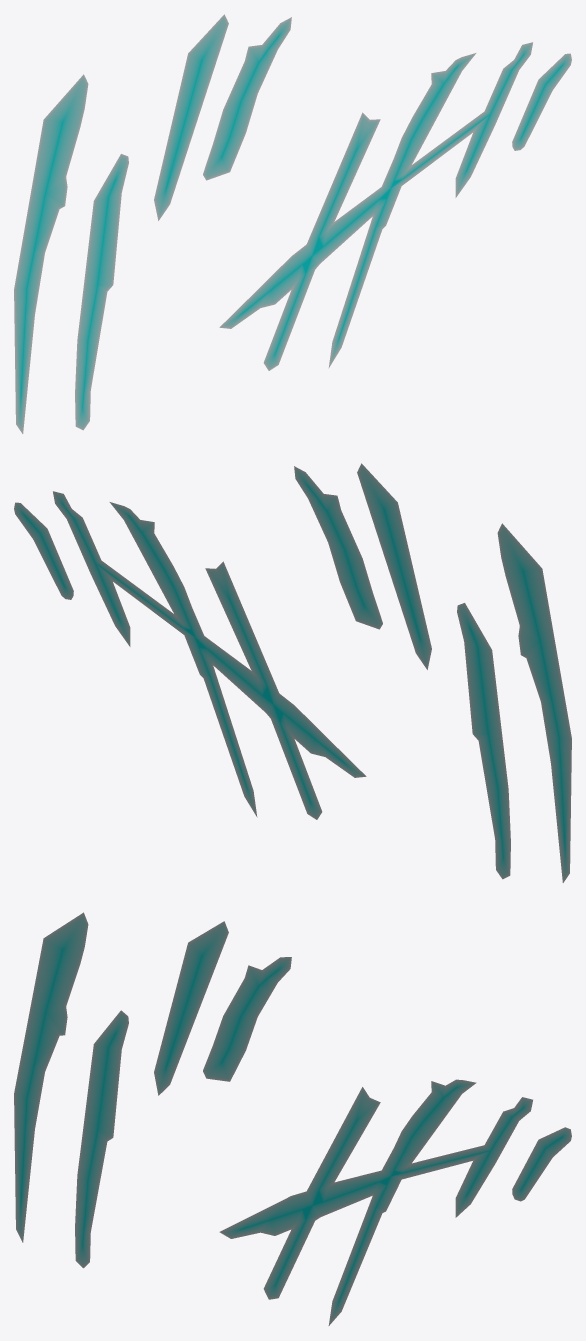
The model's file is SM_EFF_Text_TandemPaperBomb_01.glb.
3 views of the same model, one above another, from view 1: azimuth 30°, elevation 25°; view 2: azimuth 150°, elevation 25°; view 3: azimuth 330°, elevation 25° (orthographic).
Visible parts, largest first — view 1: SM_EFF_Text_TandemPaperBomb_01; view 2: SM_EFF_Text_TandemPaperBomb_01; view 3: SM_EFF_Text_TandemPaperBomb_01.
Part boxes in pixels (left/top/right/bottom): SM_EFF_Text_TandemPaperBomb_01: left=14, top=14, right=571, bottom=433; SM_EFF_Text_TandemPaperBomb_01: left=14, top=463, right=571, bottom=882; SM_EFF_Text_TandemPaperBomb_01: left=14, top=912, right=571, bottom=1325.
Bounding box in the file's own units: 0.8599 × 0.5624 × 3.44e-17.
